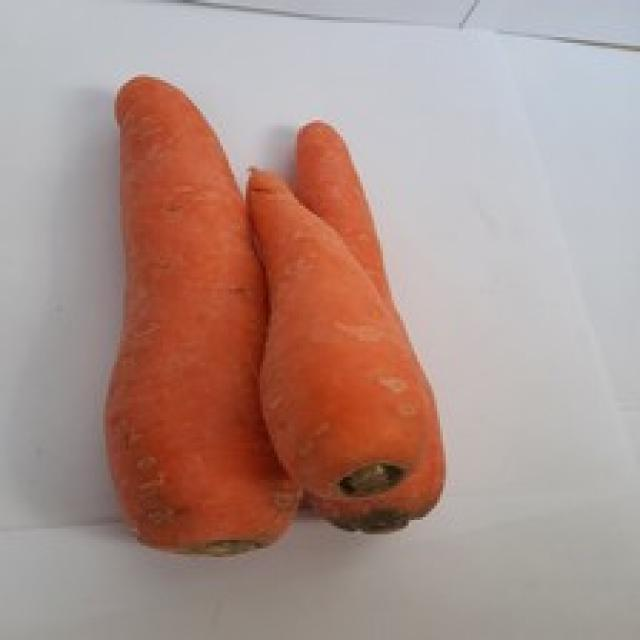carrot: (113, 73, 301, 554), (300, 126, 448, 536), (263, 166, 419, 497)
